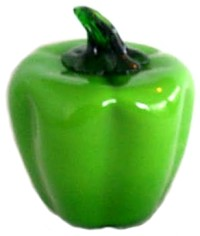capsicum: (7, 5, 195, 231)
